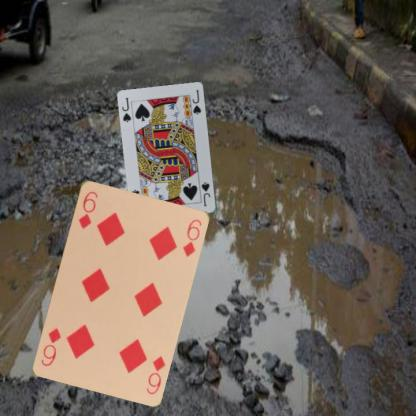6d: (76, 188, 98, 230), (144, 353, 166, 395)
Js: (120, 95, 132, 124), (199, 180, 211, 207)
